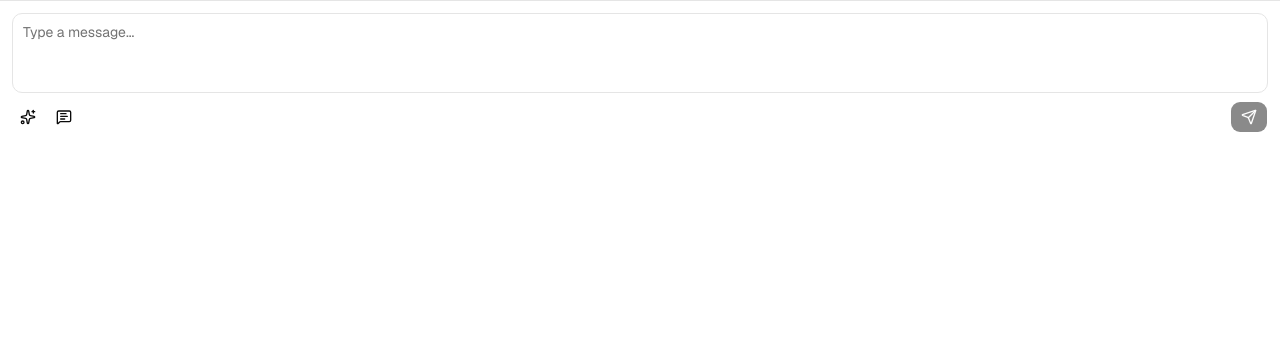
MessageComposer › AI assist › rewrites the draft in the chosen tone, and Undo brings the original back
Type "yo ur order shipped" into the text box with placeholder "Type a message...". click: (640, 53)
box: [12,13,1268,93]
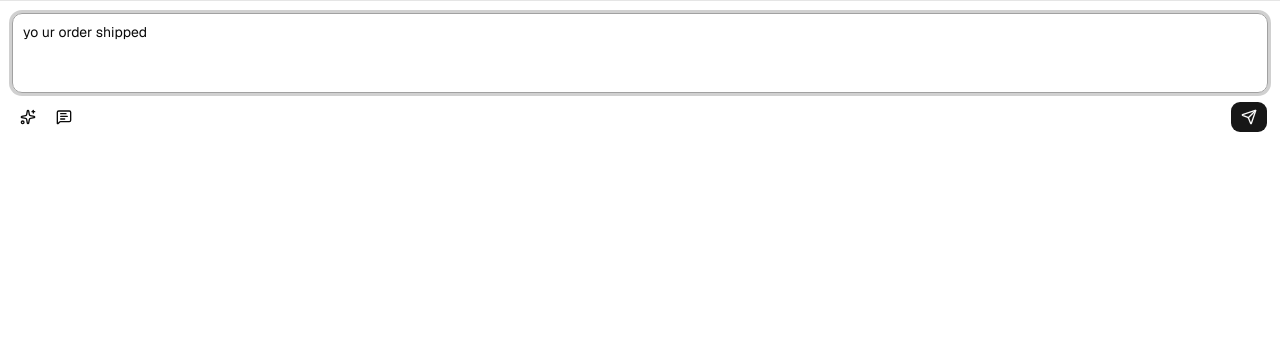
Click the button named "AI assist". click: (28, 117)
box: [12,101,44,133]
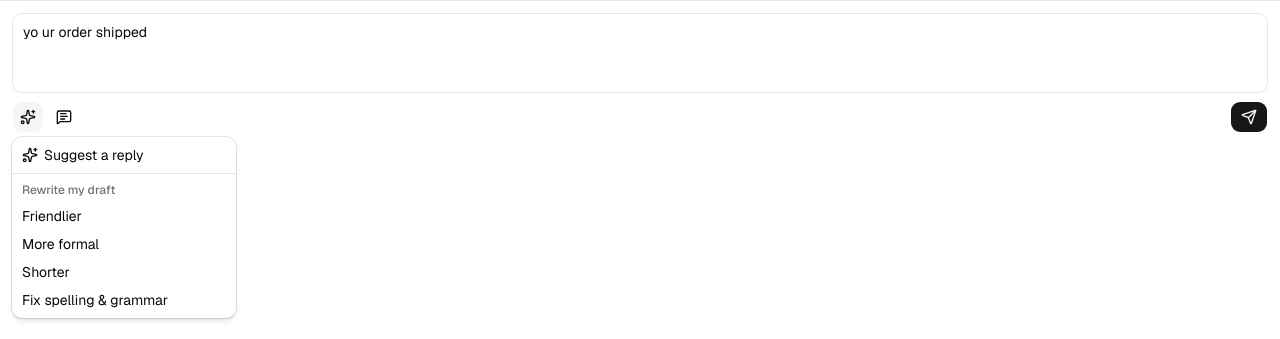
Click the menu item "More formal". click: (61, 244)
box: [22,235,99,253]
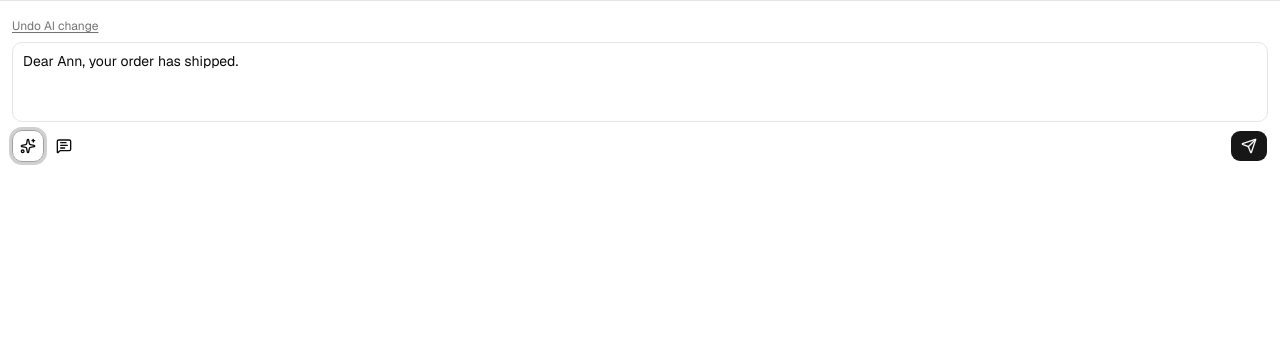
Check: the text box with placeholder "Type a message..." holds "Dear Ann, your order has shipped.", box [12,42,1268,122]
Click the button "Undo AI change". click: (55, 26)
box: [12,18,98,34]
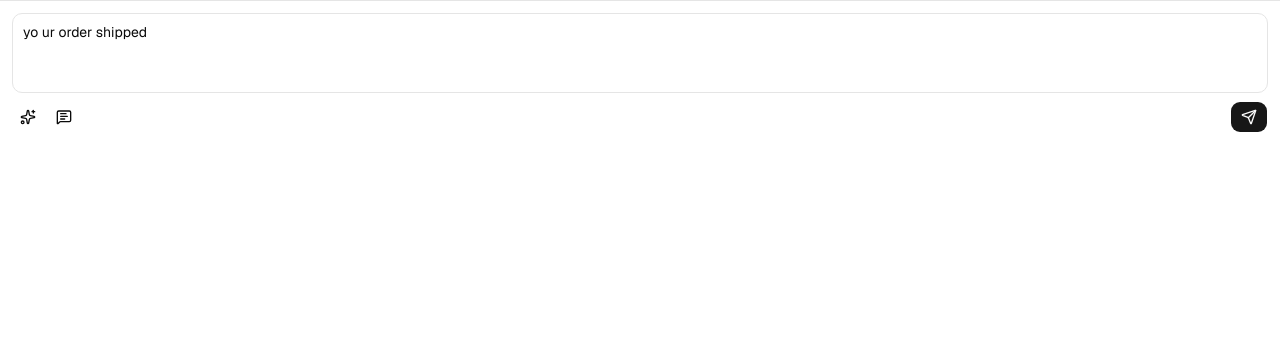
Check: the button "Undo AI change" is gone
